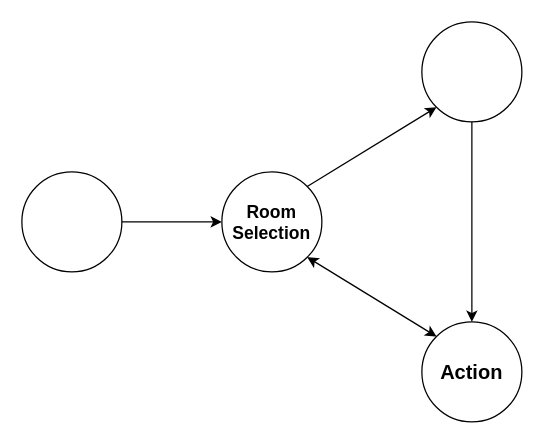
Image size: 544x444. Some labels were removed from this diagram. Each missing label, with the centre of its shape:
"Login" goes at (71,221).
"Placement" goes at (471,71).
